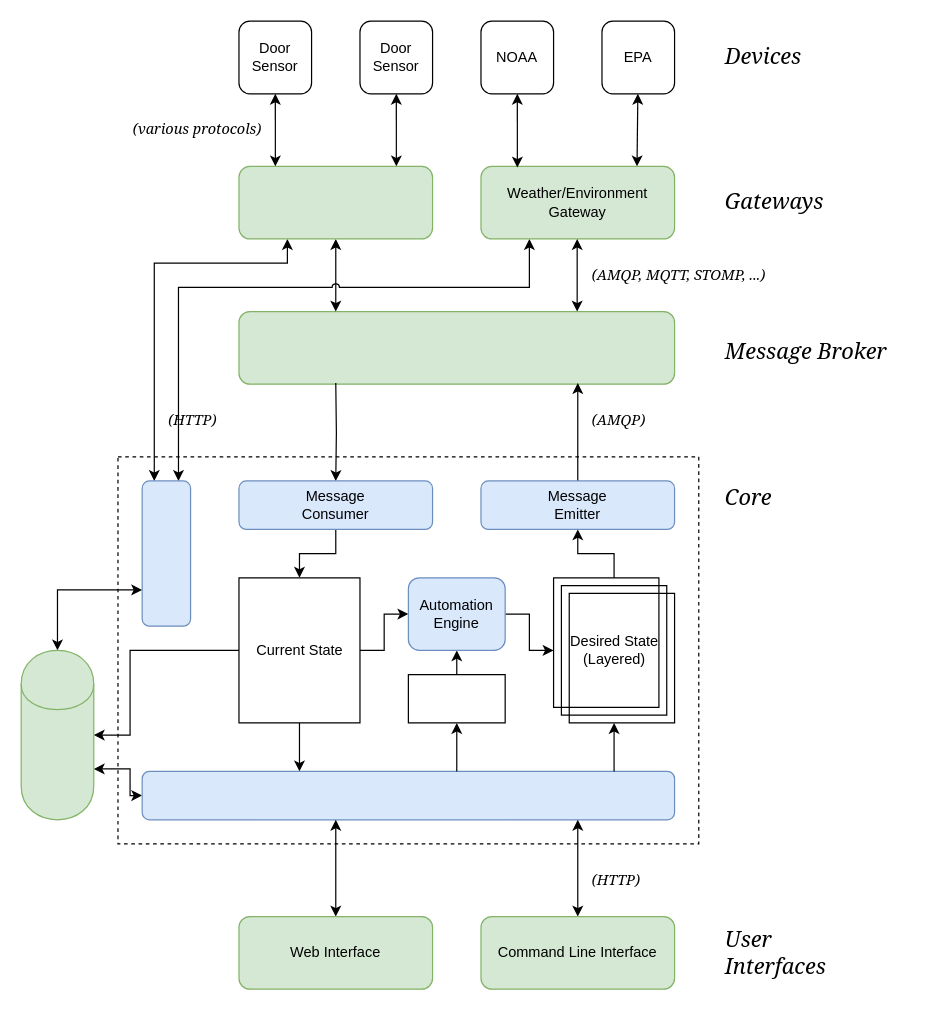
The diagram is 926 pixels wide and 1010 high, and some of its shapes have lost their labels. The shapes that lost their labels are listed below. From the top down, each one's centre as x and y in pixels, then its label:
At point 335,202: "ZWave Gateway".
At point 456,347: "RabbitMQ".
At point 166,553: "Registration API".
At point 456,698: "Rules".
At point 57,734: "Database (auth, archive)".
At point 408,795: "User API".
